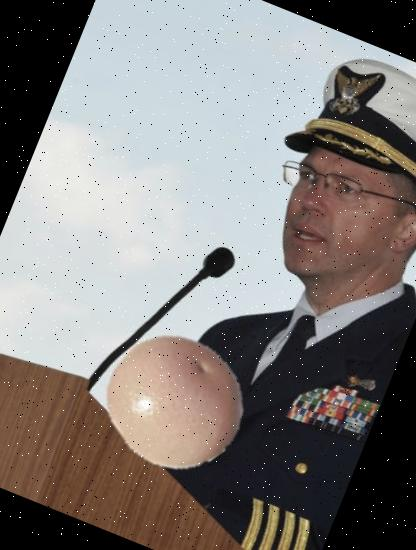Grapefruit: (84, 312, 265, 492)
